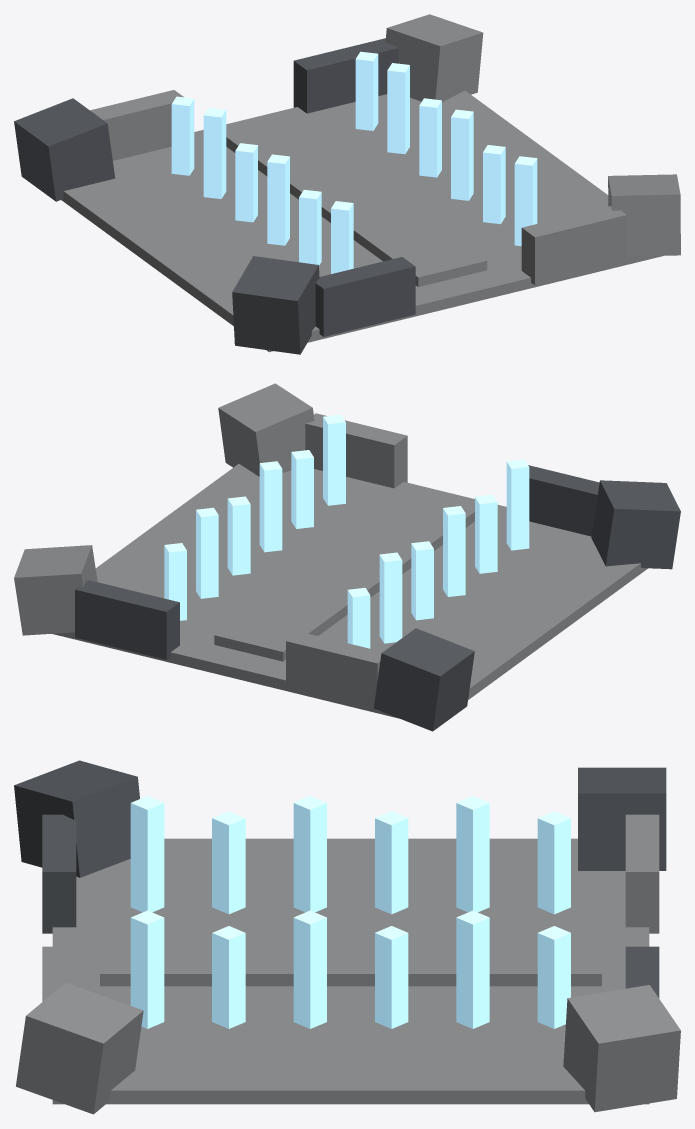
The picture shows the model from 3 angles, top to bottom: view 1: azimuth 30°, elevation 25°; view 2: azimuth 150°, elevation 25°; view 3: azimuth 270°, elevation 25°; orthographic projection. The views are drawn at different scales.
Parts seen in each view (by area): view 1: DistrictFloor, PrismProcessional, BoundaryMass0, BoundaryMass2, BoundaryNorthEast, BoundaryMass1, BoundaryNorthWest, BoundaryMass3, BoundarySouthEast, BoundarySouthWest, Prism_-1_1, Prism_-1_3 (+10 smaller); view 2: DistrictFloor, PrismProcessional, BoundaryMass0, BoundaryMass2, BoundarySouthEast, BoundaryMass3, BoundaryMass1, BoundarySouthWest, BoundaryNorthEast, BoundaryNorthWest, Prism_-1_5, Prism_1_3 (+10 smaller); view 3: DistrictFloor, PrismProcessional, BoundaryMass1, BoundaryMass3, BoundaryMass2, BoundaryMass0, BoundarySouthWest, BoundaryNorthWest, Prism_-1_5, Prism_1_1, Prism_1_3, Prism_-1_3 (+10 smaller).
Part boxes in pixels (box(x1,y1,x2,y2)): DistrictFloor: box(61, 90, 663, 352); PrismProcessional: box(226, 117, 487, 286); BoundaryMass0: box(14, 98, 115, 201); BoundaryMass2: box(232, 256, 319, 354); BoundaryNorthEast: box(521, 206, 626, 285); BoundaryMass1: box(385, 14, 483, 102); BoundaryNorthWest: box(315, 257, 415, 336); BoundaryMass3: box(608, 174, 680, 256); BoundarySouthEast: box(293, 38, 398, 113); BoundarySouthWest: box(90, 90, 183, 160); Prism_-1_1: box(203, 108, 226, 198); Prism_-1_3: box(267, 154, 289, 245); DistrictFloor: box(52, 464, 647, 718); PrismProcessional: box(214, 492, 474, 661); BoundaryMass0: box(373, 628, 474, 731); BoundaryMass2: box(591, 480, 680, 569); BoundarySouthEast: box(75, 580, 179, 659); BoundaryMass3: box(218, 383, 314, 476); BoundaryMass1: box(14, 545, 97, 635); BoundarySouthWest: box(286, 631, 382, 711); BoundaryNorthEast: box(305, 413, 407, 488); BoundaryNorthWest: box(528, 465, 599, 536); Prism_-1_5: box(506, 459, 529, 550); Prism_1_3: box(259, 461, 282, 552); DistrictFloor: box(52, 838, 649, 1104); PrismProcessional: box(100, 931, 601, 986); BoundaryMass1: box(563, 985, 680, 1112); BoundaryMass3: box(16, 983, 143, 1114); BoundaryMass2: box(14, 760, 139, 877); BoundaryMass0: box(578, 767, 666, 870); BoundarySouthWest: box(625, 814, 659, 933); BoundaryNorthWest: box(42, 814, 76, 933); Prism_-1_5: box(130, 796, 164, 912); Prism_1_1: box(456, 910, 489, 1028); Prism_1_3: box(293, 910, 326, 1028); Prism_-1_3: box(293, 796, 326, 912).
Size of the model in its own units: 98.87 by 20 by 98.37.
